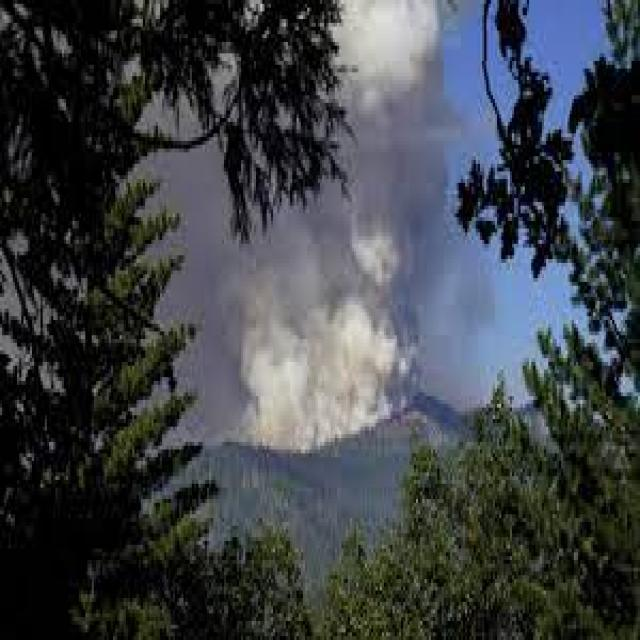Smoke: (218, 239, 452, 457), (350, 0, 452, 415)
